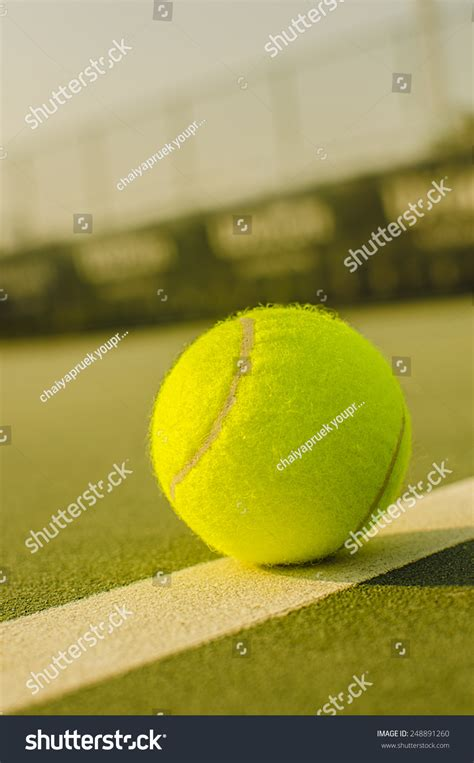tennis_ball: (150, 306, 411, 565)
